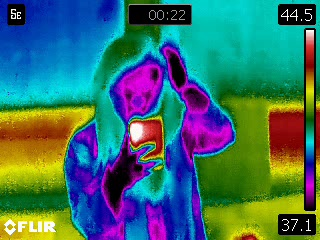human: (65, 35, 235, 240)
